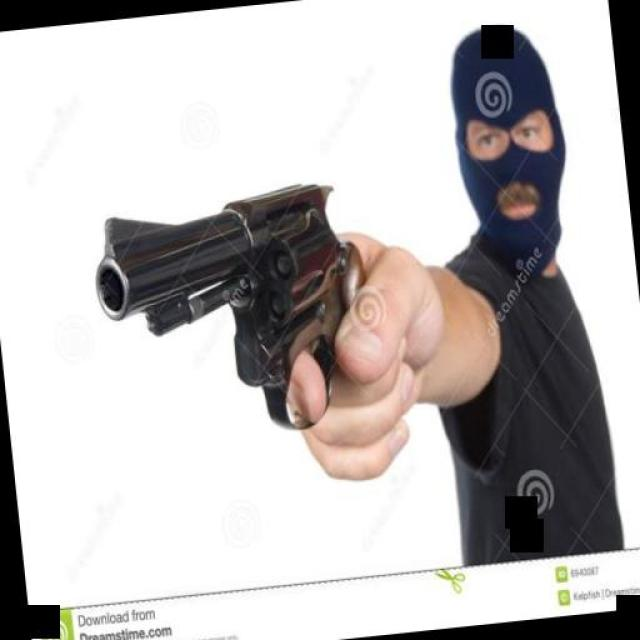gun: (84, 162, 388, 446)
